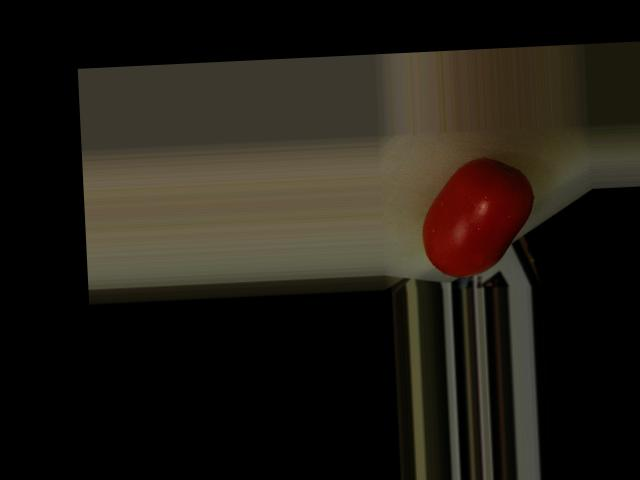tomato: (419, 156, 537, 279)
